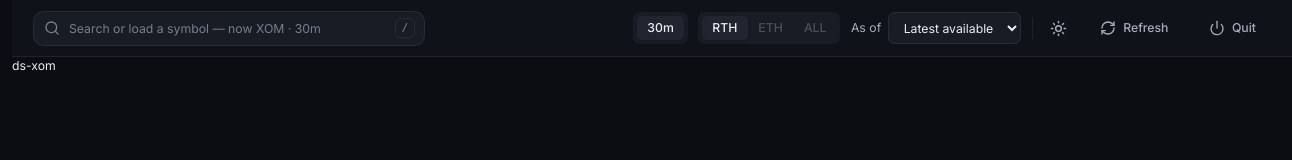
Test case: Refresh button › reports the stocks that could not refresh
Click the button "Refresh" at (1134, 28), box [1085,12,1184,44]
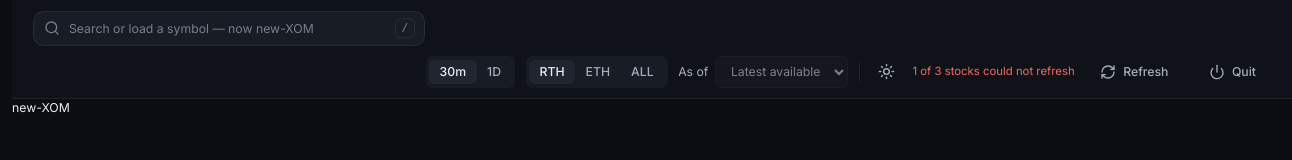
expect the message reads "1 of 3 stocks could not refresh": met, box [912,63,1075,80]
